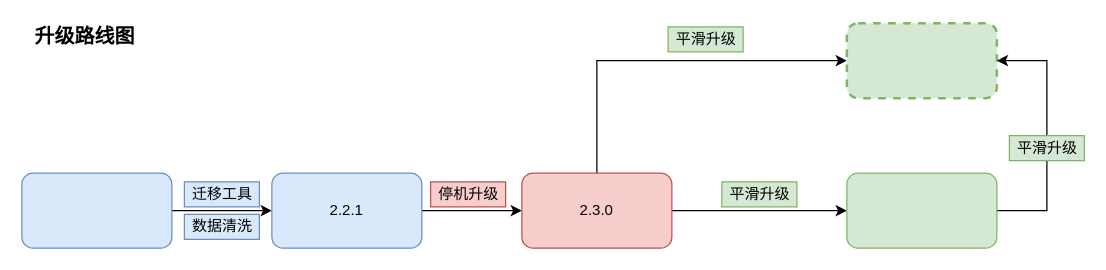
This 1106x270 diagram has some shape labels left out. Each missing label, with the box of its shape:
1.2.x: (21, 172, 172, 248)
2.3.x: (846, 172, 997, 248)
3.x.x: (845, 21, 998, 99)
